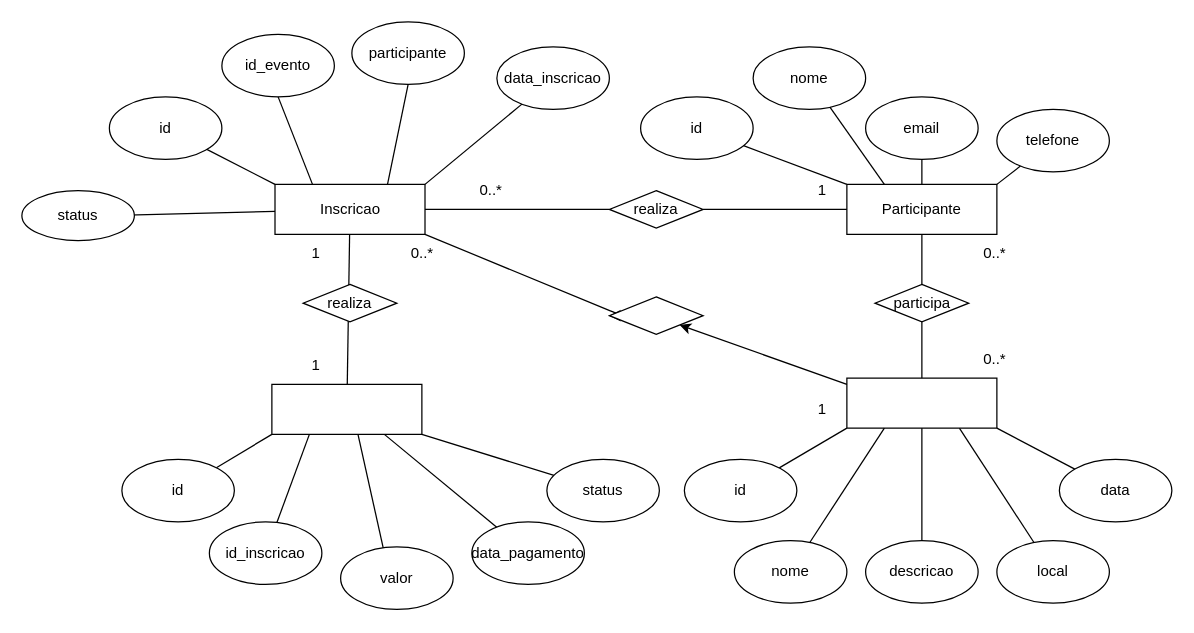
The diagram is 1194 pixels wide and 633 high, and some of its shapes have lost their labels. Each missing label, with the centre of its shape:
Evento: (921,402)
Pagamento: (346,408)
possui: (655,315)
